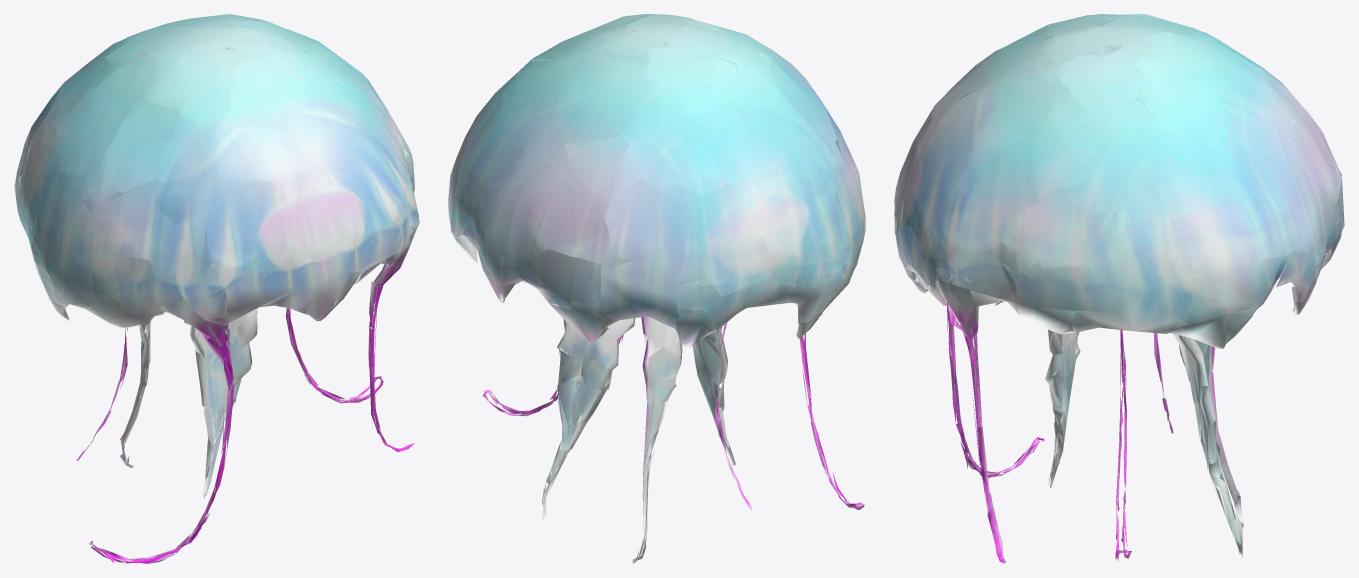
Rendered from aguaviva.glb.
3 renders of one model, left to right at view 1: azimuth 30°, elevation 25°; view 2: azimuth 150°, elevation 25°; view 3: azimuth 270°, elevation 25°, orthographic. The views are drawn at different scales.
Parts seen in each view (by area): view 1: aguaviva; view 2: aguaviva; view 3: aguaviva.
Boxes of the visible parts, x1,y1,x2,y2 form: aguaviva: [14, 14, 419, 563]; aguaviva: [448, 14, 865, 563]; aguaviva: [894, 14, 1344, 563].
Size of the model in its own units: 0.3725 by 0.4797 by 0.379.
1 material, 1 textured.
